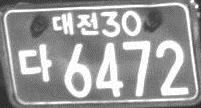0: (122, 9, 141, 38)
2: (154, 38, 190, 98)
3: (99, 10, 121, 39)
4: (95, 41, 123, 98)
6: (63, 42, 93, 99)
7: (121, 39, 151, 98)
다: (17, 42, 52, 82)
대전_O: (51, 11, 100, 37)
